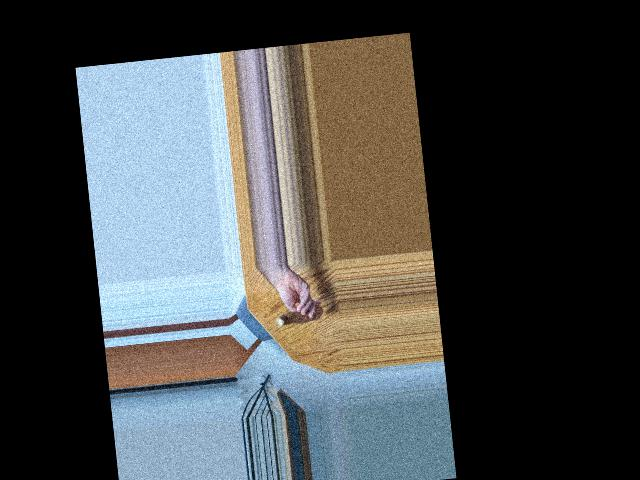sweet_potato: (273, 302, 323, 328)
